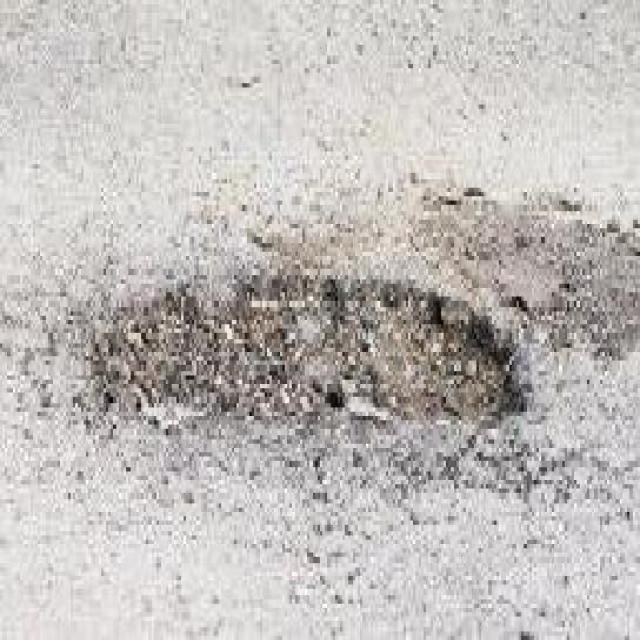Pothole: (88, 260, 532, 435)
